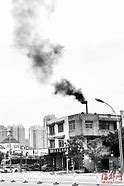smoke: (51, 76, 87, 103)
